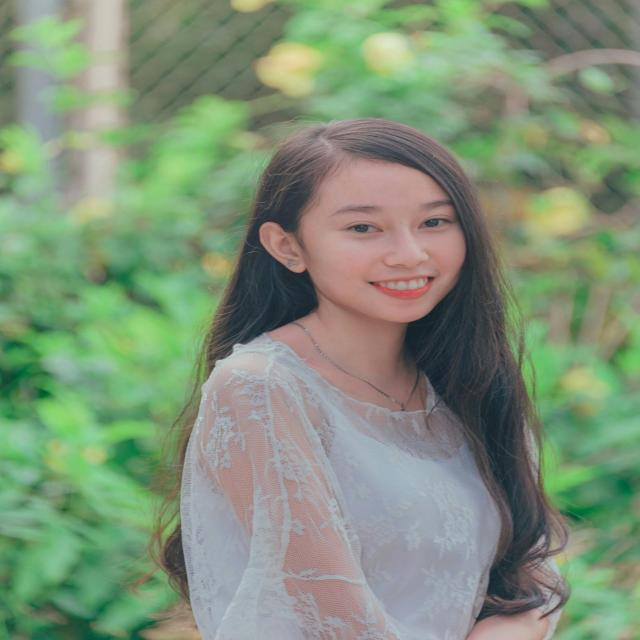human: (128, 117, 640, 640)
